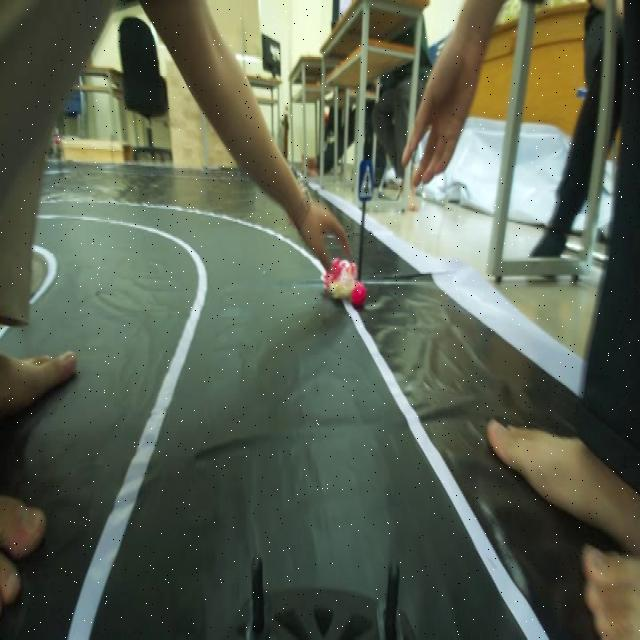crosswalk: (354, 150, 380, 206)
